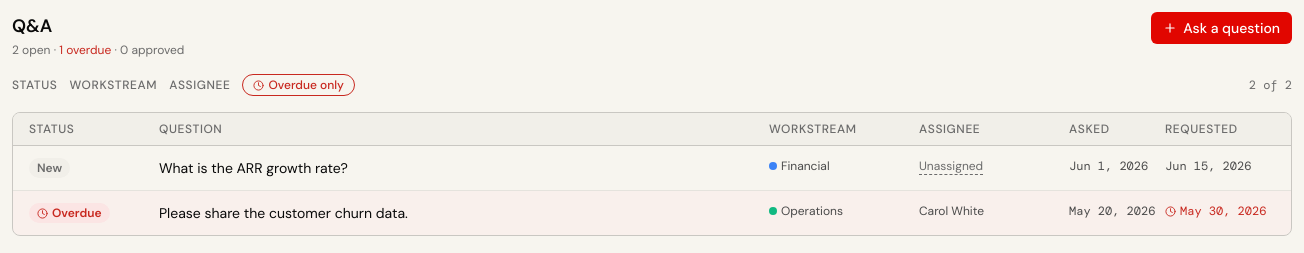
QnaList › toggling "Overdue only" hides the non-overdue question
The width and height of the screenshot is (1304, 253).
expect the text "What is the ARR growth rate?" is shown: met, box [159,159,348,177]
Step 1. Click the button "Overdue only" → (299, 85), box [242,74,355,96]
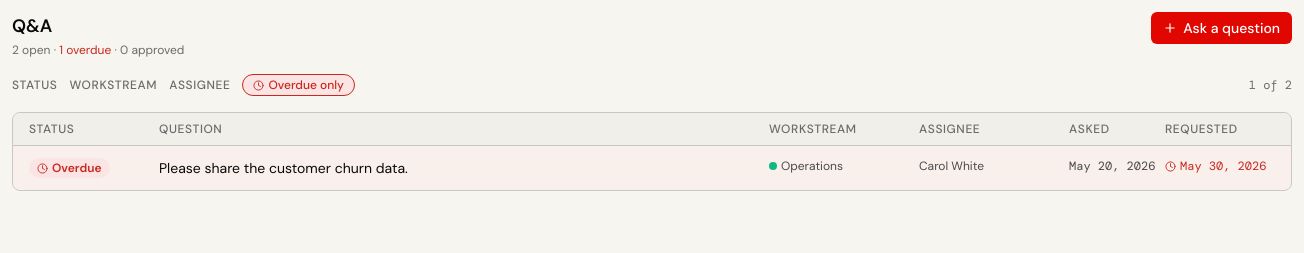
expect the text "Please share the customer churn data." is shown: met, box [159,159,408,177]
expect the button "What is the ARR growth rate?" is gone: met
